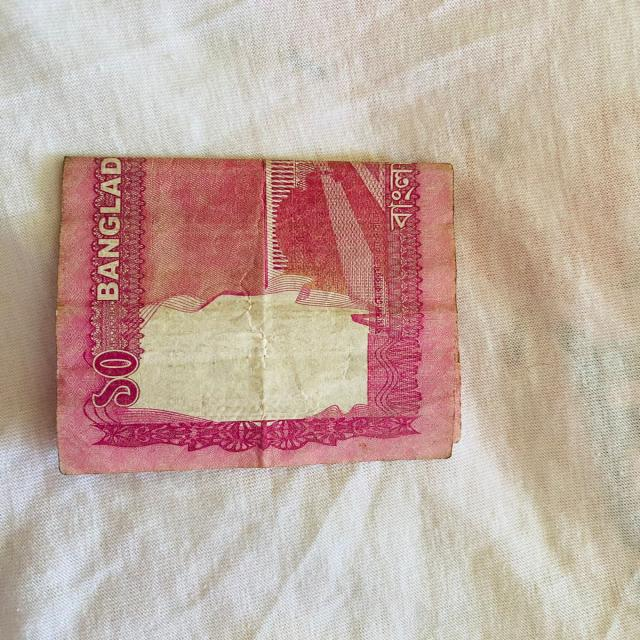Taka: (39, 150, 489, 474)
